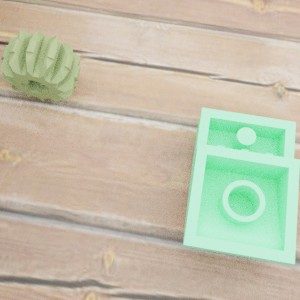lego: (182, 107, 299, 265), (0, 30, 80, 101)
